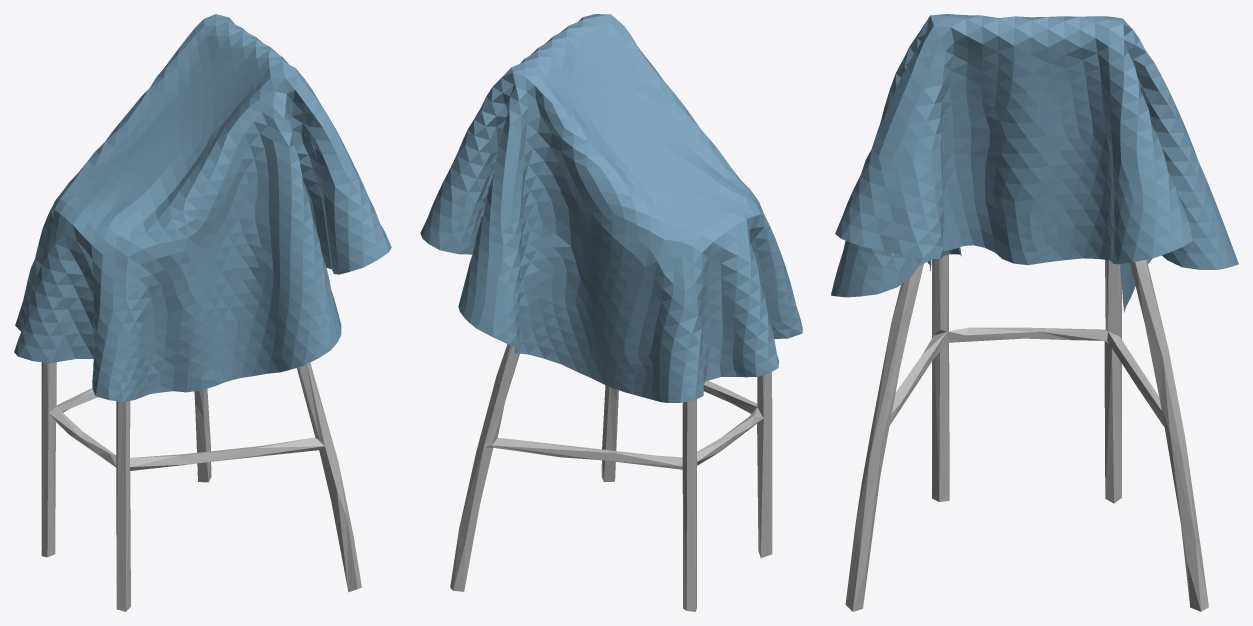
The model's file is level_1.glb.
The picture shows the model from 3 angles, left to right: view 1: azimuth 30°, elevation 25°; view 2: azimuth 150°, elevation 25°; view 3: azimuth 270°, elevation 25°; orthographic projection. The views are drawn at different scales.
Visible parts, largest first — view 1: world, object.obj; view 2: world, object.obj; view 3: world, object.obj.
Part boxes in pixels (bbox=[...]): world: bbox=[14, 14, 391, 401]; object.obj: bbox=[41, 362, 361, 611]; world: bbox=[420, 14, 802, 402]; object.obj: bbox=[450, 344, 772, 611]; world: bbox=[831, 14, 1238, 312]; object.obj: bbox=[845, 254, 1208, 611].
Size of the model in its own units: 0.2743 by 0.4264 by 0.2724.
